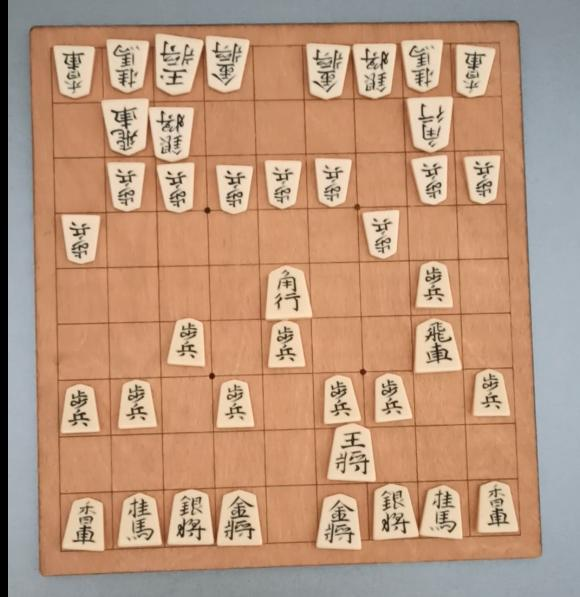board: (52, 42, 519, 551)
